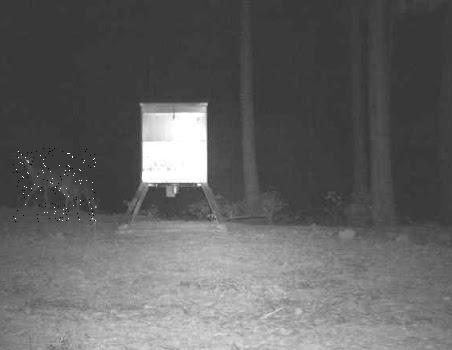Deer: (13, 148, 96, 222)
